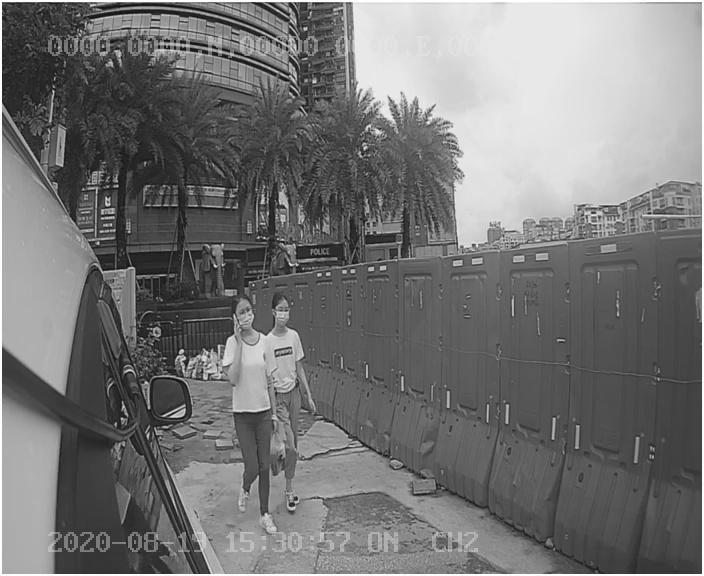person: (217, 287, 317, 536)
